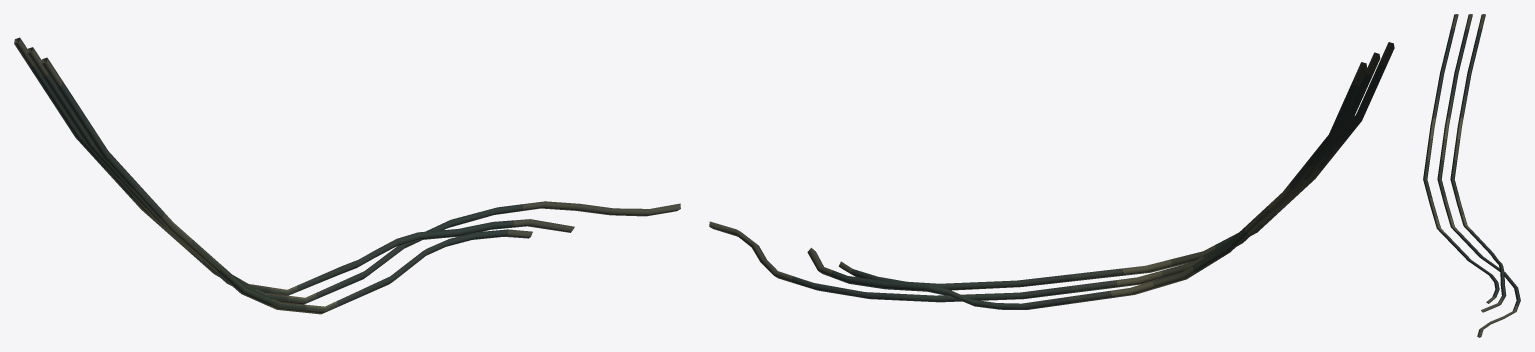
3 renders of one model, left to right at view 1: azimuth 30°, elevation 25°; view 2: azimuth 150°, elevation 25°; view 3: azimuth 270°, elevation 25°, orthographic. The views are drawn at different scales.
Visible parts, largest first — view 1: line_03; view 2: line_03; view 3: line_03.
Boxes of the visible parts, x1,y1,x2,y2 form: line_03: [14, 37, 680, 314]; line_03: [709, 42, 1394, 309]; line_03: [1423, 14, 1520, 337].
Size of the model in its own units: 804 by 383 by 206.
